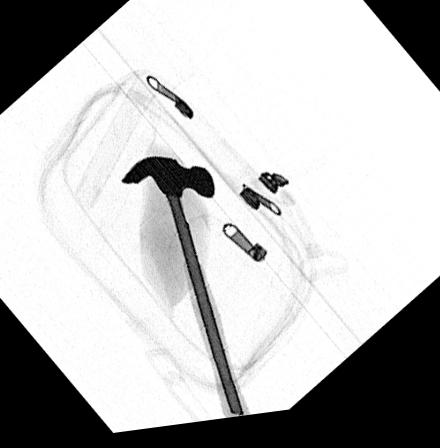Hammer: (118, 160, 250, 424)
